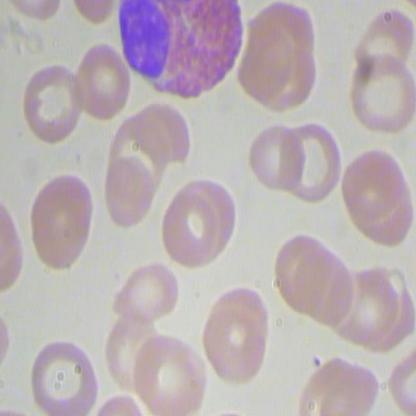RBC: (158, 176, 242, 276), (25, 171, 97, 277), (335, 137, 411, 228), (20, 63, 93, 151), (199, 296, 267, 387), (341, 54, 415, 137), (27, 339, 103, 415), (108, 251, 183, 328), (70, 39, 131, 122), (246, 118, 307, 201)
WBC: (112, 1, 252, 114)
